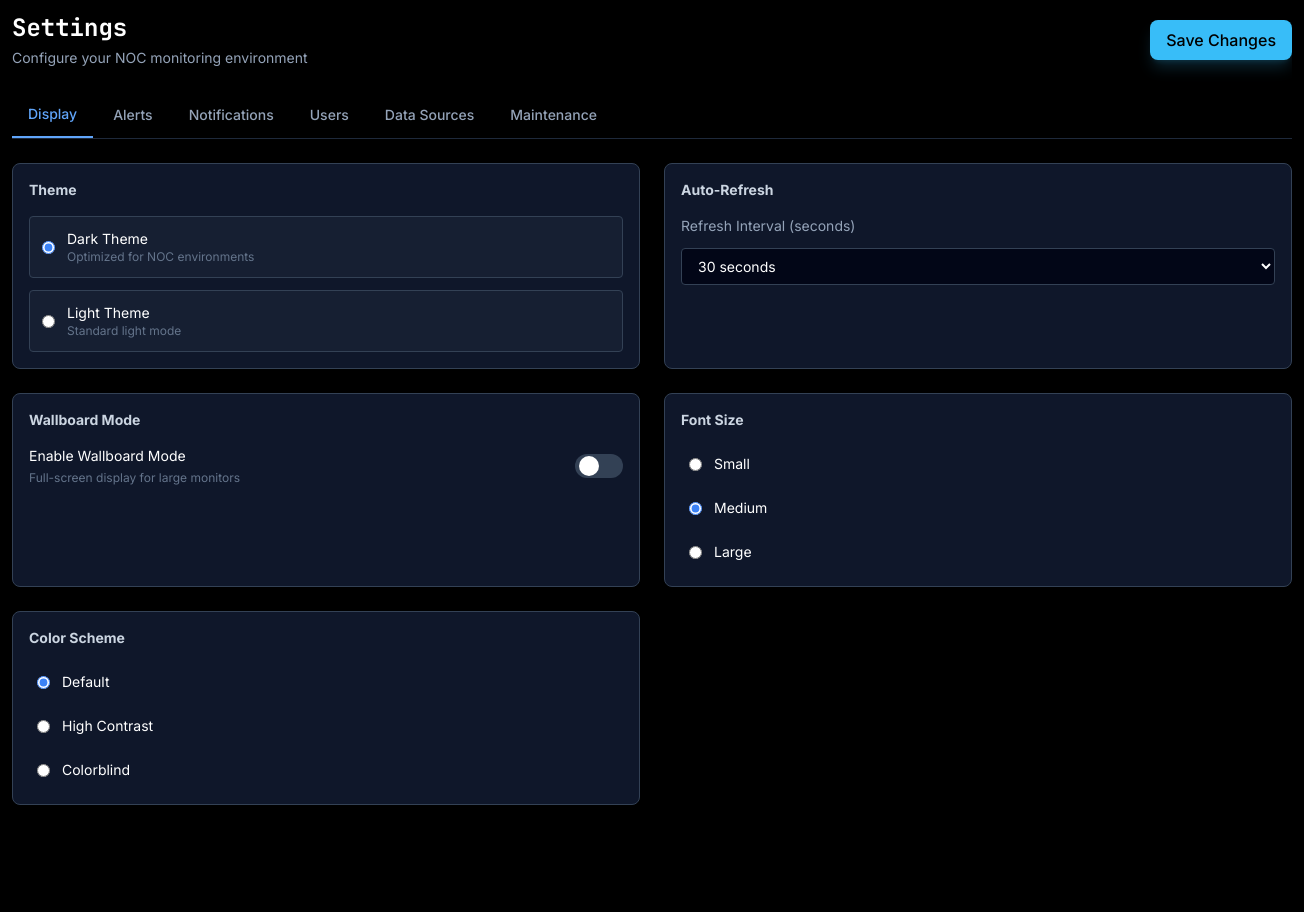
SettingsPage › switches to Alerts tab when clicked
Click the button "Alerts" at (133, 115), box [97,92,169,138]
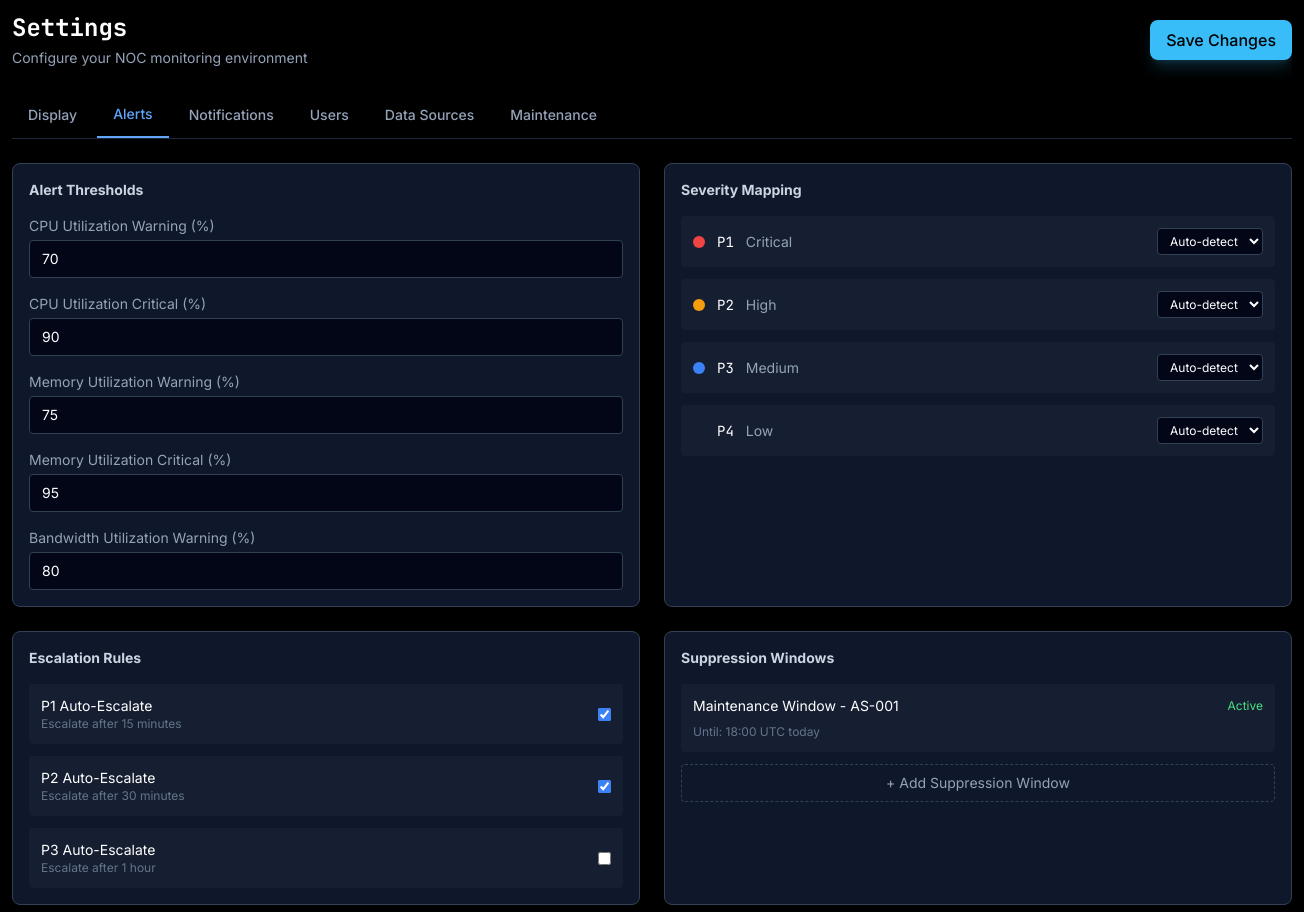
Now the heading "Alert Thresholds" is shown, box [29,181,143,198]
Now the heading "Severity Mapping" is shown, box [681,181,802,198]
Now the heading "Escalation Rules" is shown, box [29,649,141,666]
